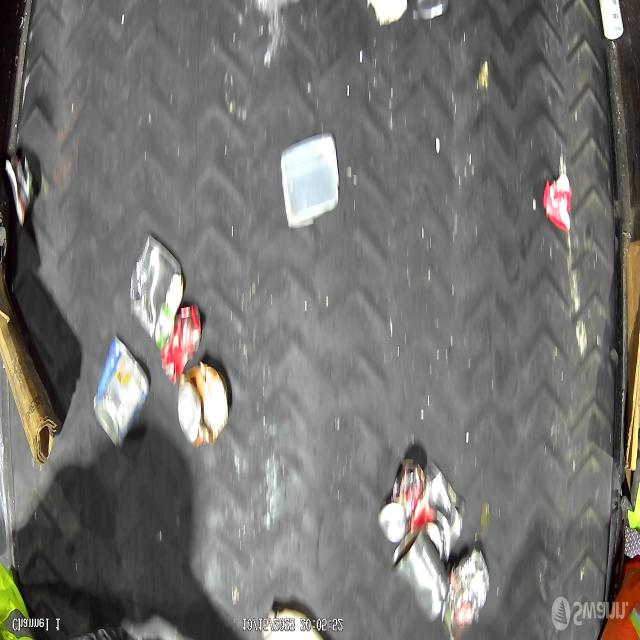can: (93, 334, 150, 452), (130, 234, 185, 350), (390, 526, 451, 625), (178, 361, 230, 449), (379, 460, 427, 543), (160, 302, 202, 385)
